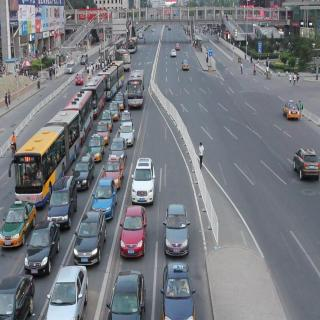BigCar: (11, 107, 80, 191), (61, 84, 94, 142), (98, 58, 126, 94), (86, 74, 105, 112), (115, 48, 132, 66), (128, 37, 139, 55)
Car: (46, 262, 86, 320), (107, 263, 146, 320), (23, 215, 58, 276), (160, 259, 195, 320), (0, 192, 35, 248), (161, 202, 193, 260), (74, 205, 103, 266), (0, 269, 34, 320), (120, 200, 149, 258), (49, 172, 75, 230), (130, 154, 156, 210), (292, 144, 320, 183), (92, 178, 118, 219), (74, 153, 94, 191), (127, 67, 146, 107), (105, 156, 122, 187), (282, 96, 301, 122), (86, 132, 103, 158), (110, 136, 126, 162), (120, 121, 133, 146), (97, 118, 109, 138), (101, 106, 113, 126), (109, 100, 119, 119), (121, 109, 132, 123), (115, 91, 125, 106), (181, 58, 191, 71), (75, 70, 84, 84), (66, 62, 75, 75), (80, 51, 88, 64), (174, 41, 182, 51), (170, 48, 177, 58)
